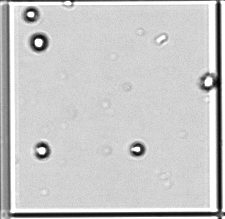Living Cell: (30, 33, 48, 51), (35, 142, 50, 159), (202, 72, 216, 90), (130, 141, 145, 157), (23, 8, 39, 21)
